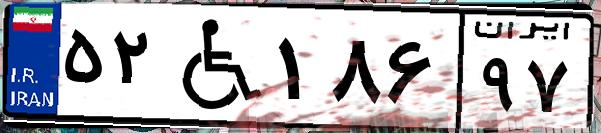1: (270, 28, 330, 110)
2: (110, 28, 158, 98)
5: (57, 26, 110, 100)
6: (385, 28, 445, 110)
7: (525, 38, 570, 115)
8: (330, 28, 385, 110)
9: (475, 38, 525, 113)
ژ (معلولین و جانبازان): (158, 12, 270, 120)
